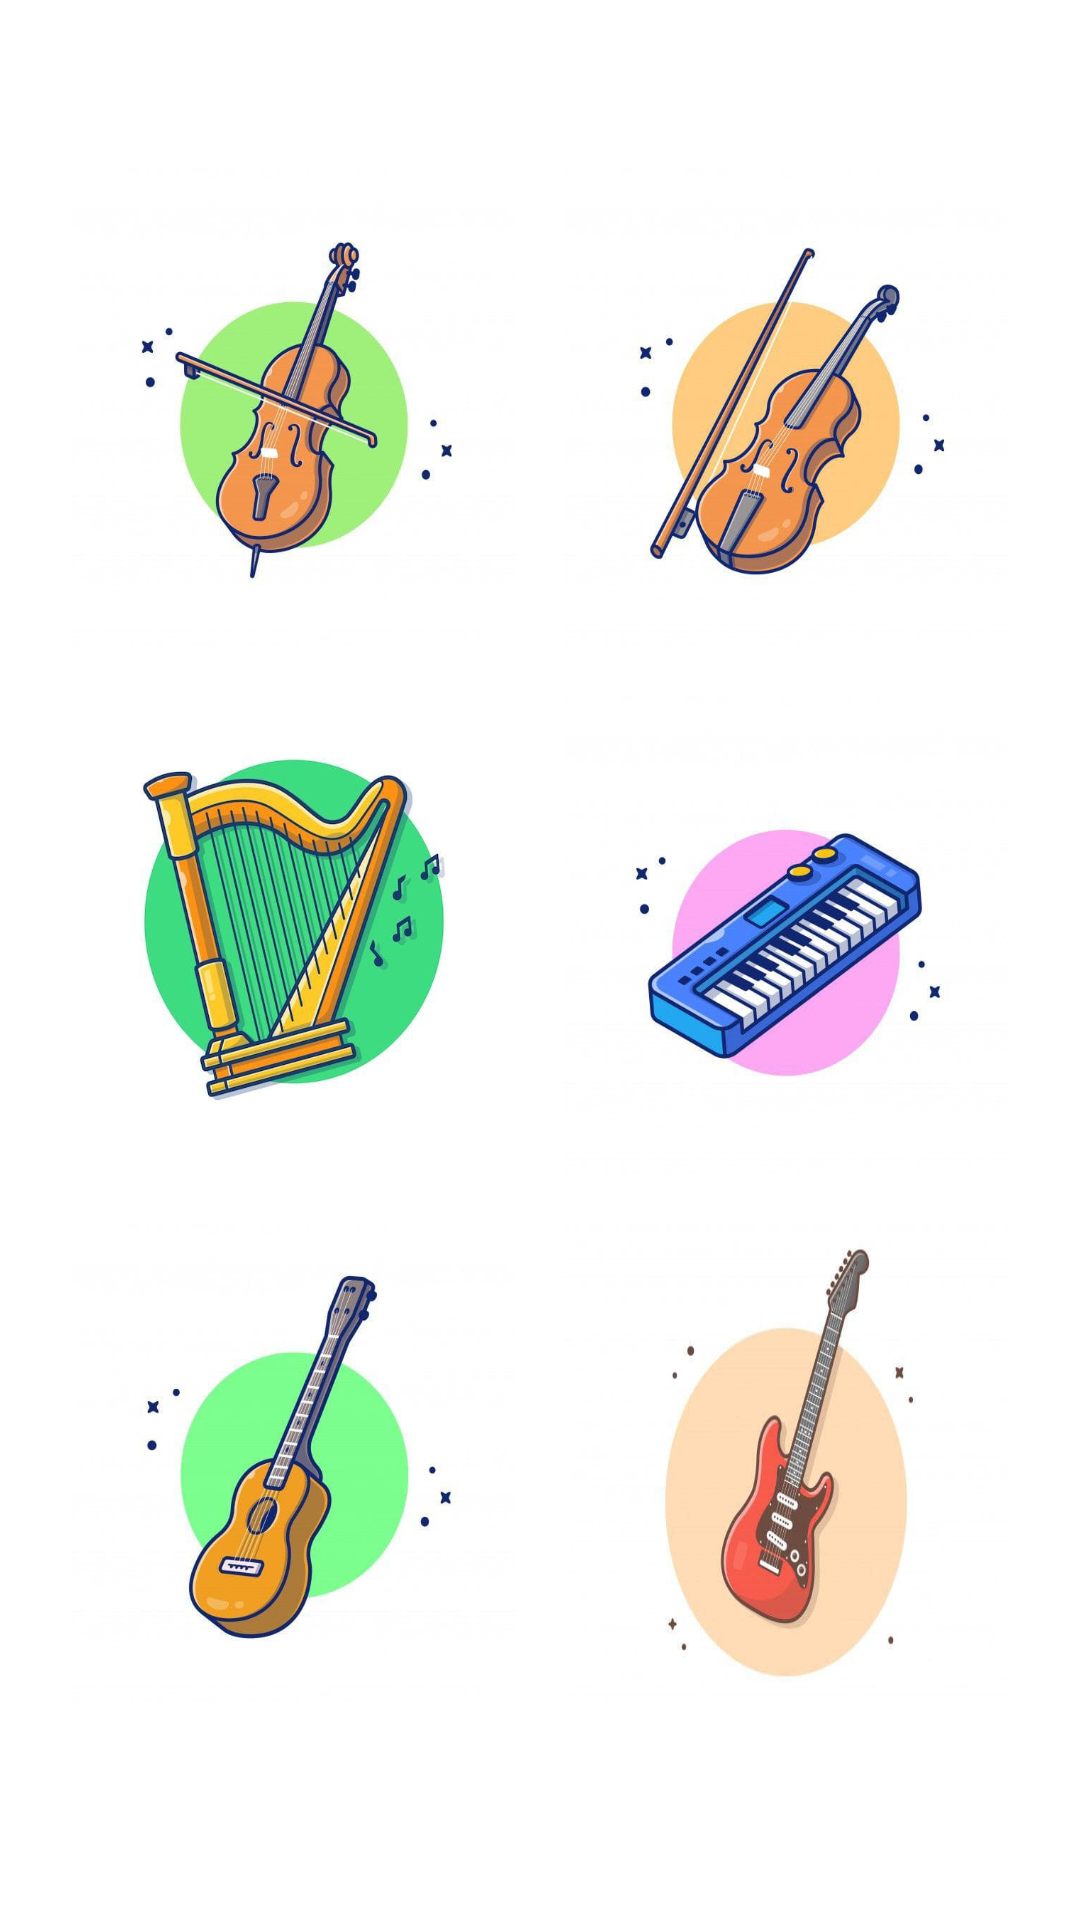

Locate icon controls on the screen. Image size 1080*1920, boxes as (x1, y1, x2, y2).
arp: (143, 759, 445, 1100)
cello: (141, 242, 452, 579)
keman: (638, 247, 944, 575)
keyboard: (635, 829, 940, 1076)
